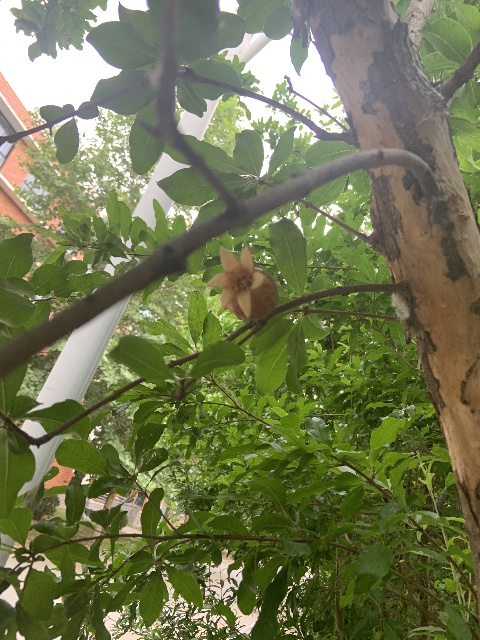early-fruit: (206, 244, 278, 321)
